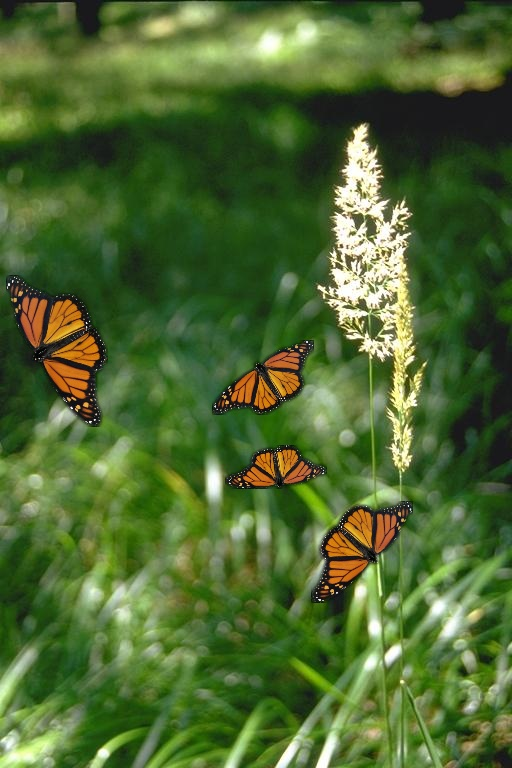danaus_plexippus: (6, 275, 108, 427), (311, 501, 413, 603), (212, 340, 314, 415), (225, 445, 327, 489)
